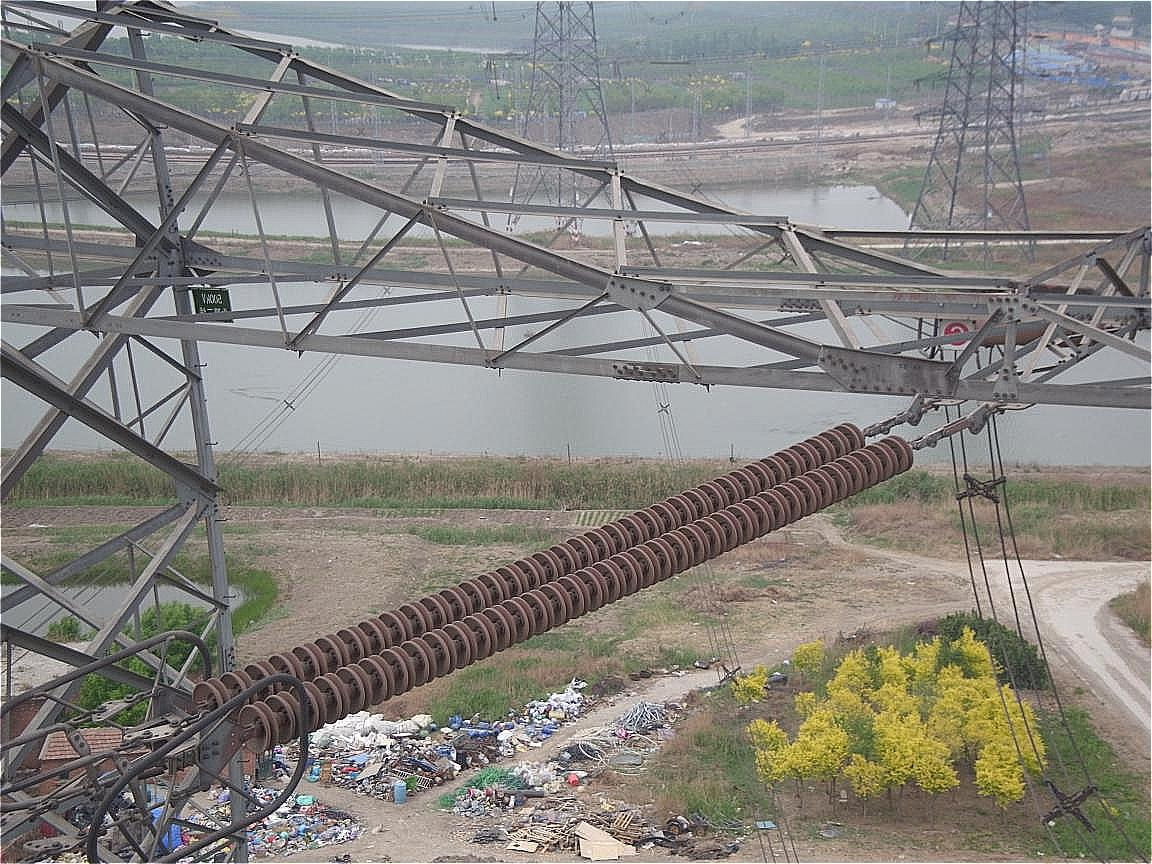insultor2: (192, 422, 914, 755)
